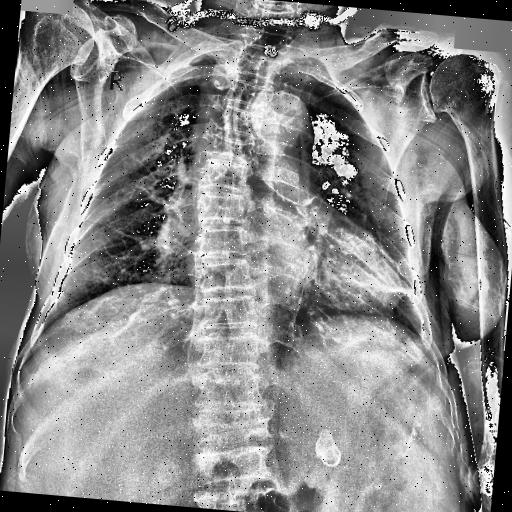0- Aortic enlargement: (249, 90, 323, 182), (240, 88, 314, 158), (244, 84, 310, 148)
11- Pleural thickening: (380, 278, 418, 304), (173, 54, 206, 70)
13- Pulmonary fibrosis: (118, 164, 190, 221), (88, 207, 158, 254), (135, 184, 186, 226), (128, 154, 158, 180)
3- Cardiomegaly: (181, 230, 408, 330), (182, 221, 409, 318), (178, 254, 404, 334)
8- Nodule-Mass: (252, 92, 306, 151), (212, 57, 238, 91), (277, 158, 302, 184)
9- Other lesion: (252, 92, 306, 151), (212, 57, 238, 91), (277, 158, 302, 184)
